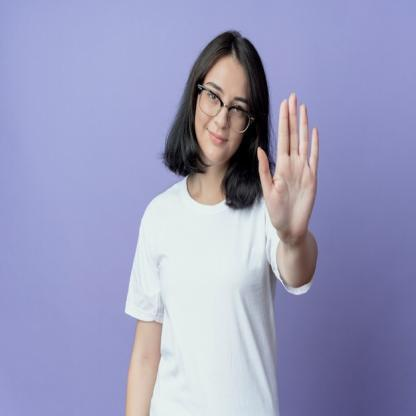stop: (254, 90, 322, 236)
